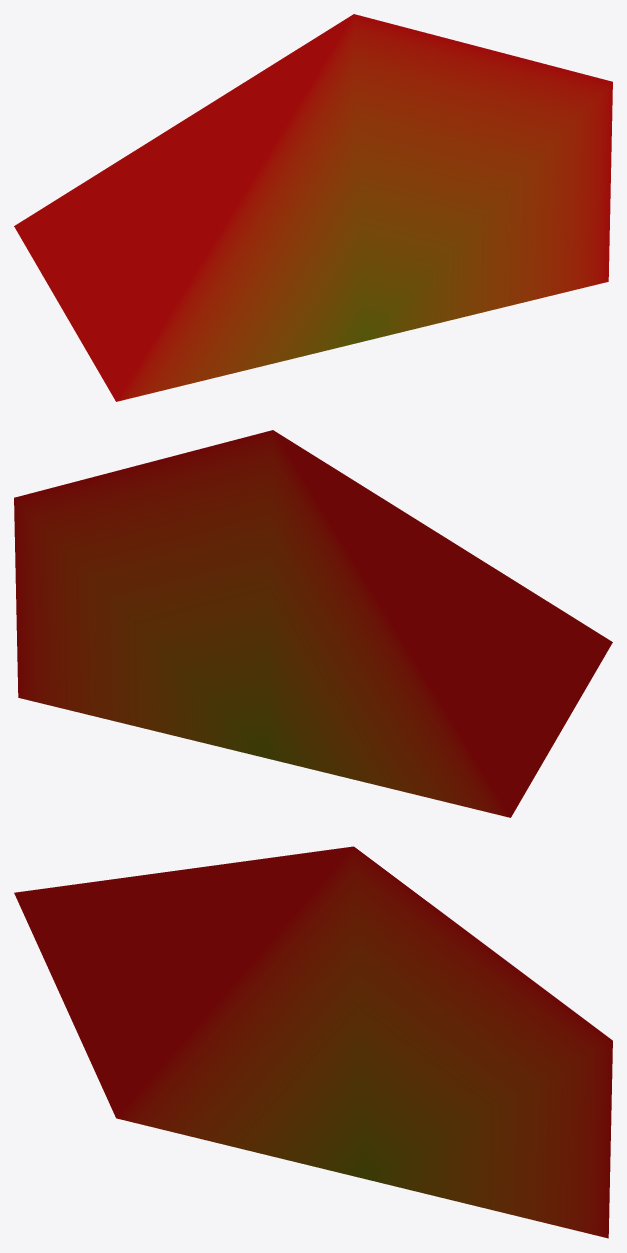
The model's file is Var1_LOD3.fbx.
3 renders of one model, top to bottom at view 1: azimuth 30°, elevation 25°; view 2: azimuth 150°, elevation 25°; view 3: azimuth 330°, elevation 25°, orthographic.
Parts seen in each view (by area): view 1: _c16b_Var1_LOD3; view 2: _c16b_Var1_LOD3; view 3: _c16b_Var1_LOD3.
Boxes of the visible parts, x1=… form: _c16b_Var1_LOD3: x1=14, y1=14, x2=612, y2=401; _c16b_Var1_LOD3: x1=14, y1=430, x2=612, y2=817; _c16b_Var1_LOD3: x1=14, y1=846, x2=612, y2=1238.
Bounding box in the file's own units: 198 × 104 × 5.25e-06.
